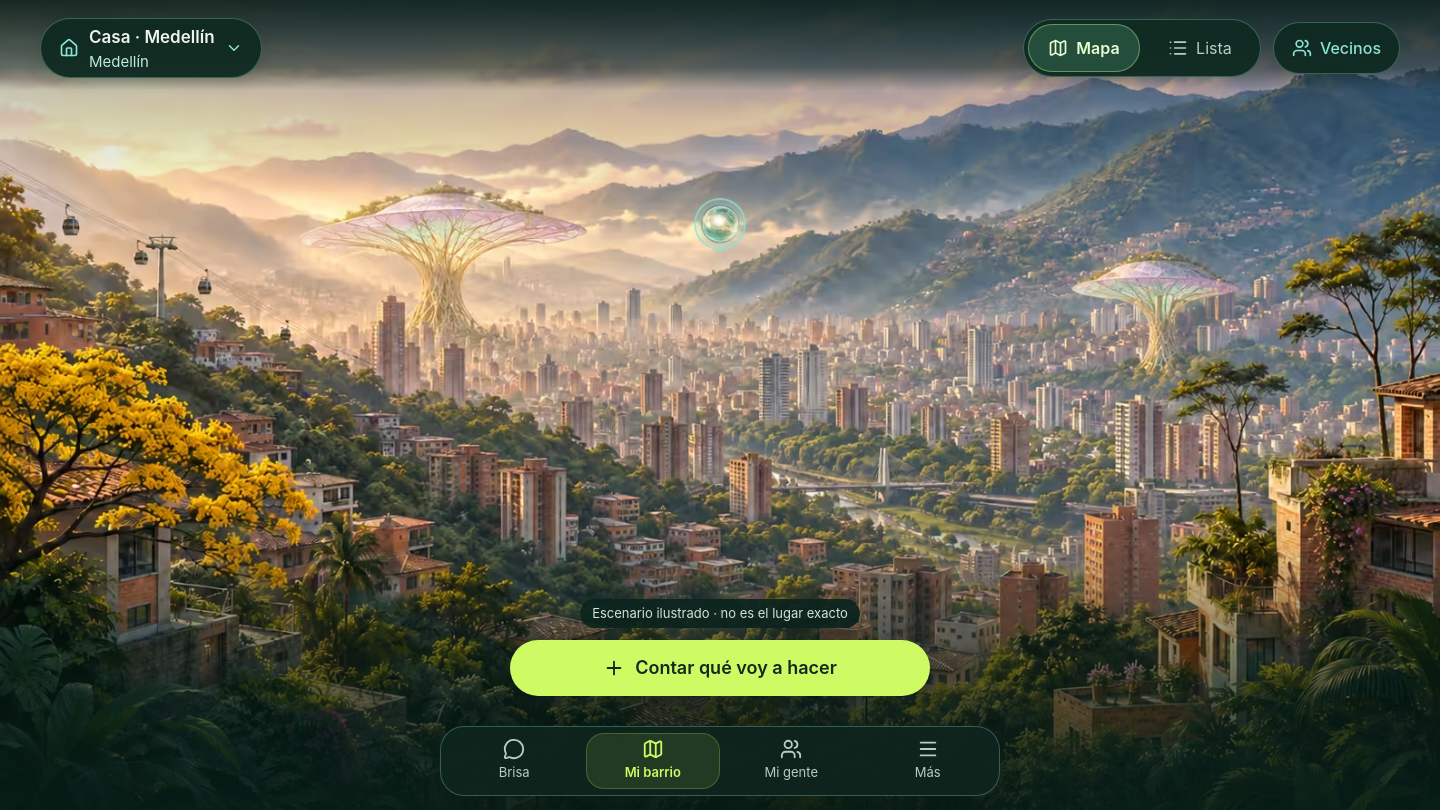
Test case: Mi barrio sobre el escenario ilustrado (19 de octubre) › tocar una luz abre su tarjeta en lugar del botón, y desde ahí uno se suma
Click the button named "Caminata por el parque. ".
click(720, 224)  # box [692,196,748,252]
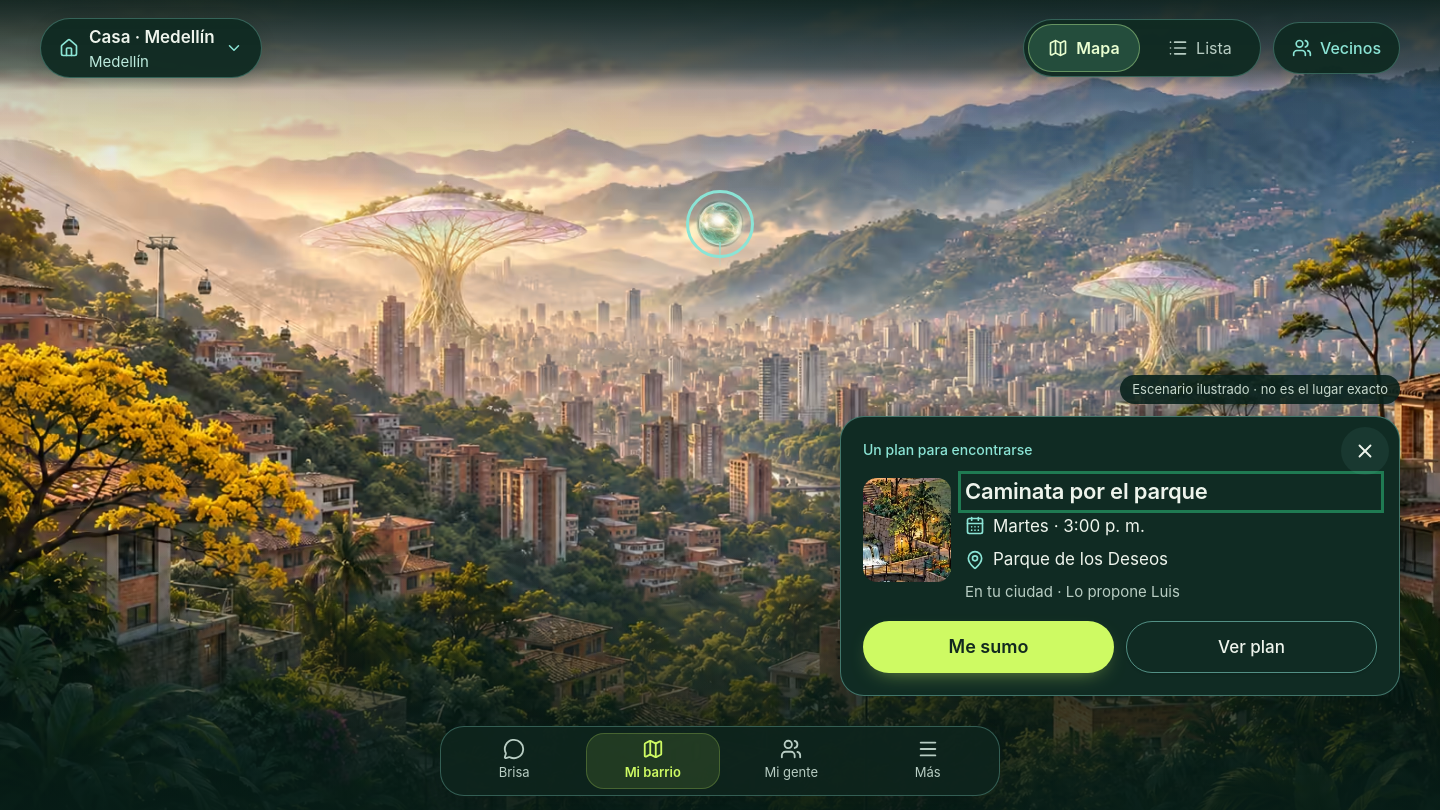
Expected: the heading "Caminata por el parque" is shown, [965,478,1208,504]
Expected: the button "Contar qué voy a hacer" is gone
Click the button "Me sumo".
click(988, 647)  # box [863,621,1114,673]
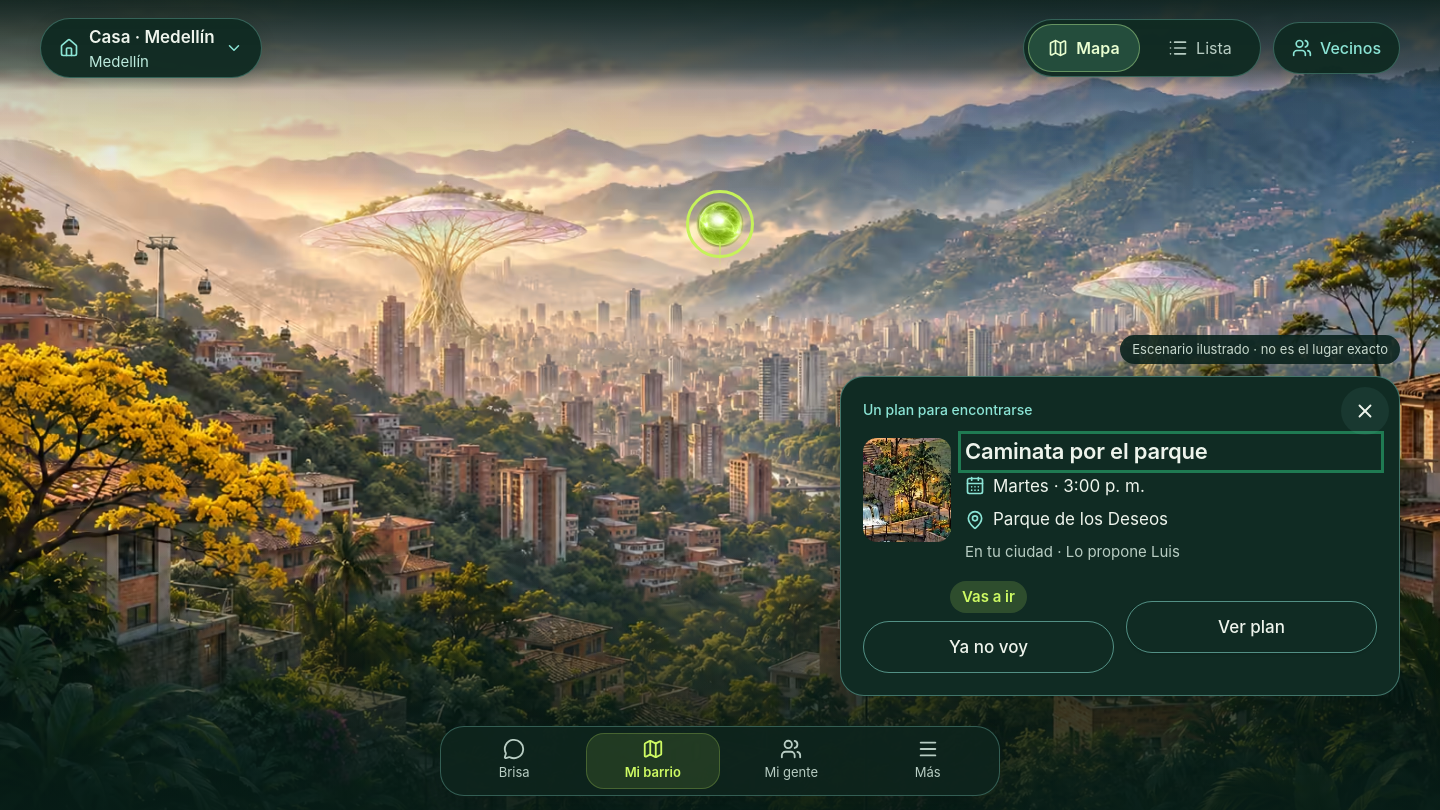
Expected: the text "Vas a ir" is shown, [950,581,1027,613]
Click the button named "Cerrar".
click(1365, 411)  # box [1341,387,1389,435]
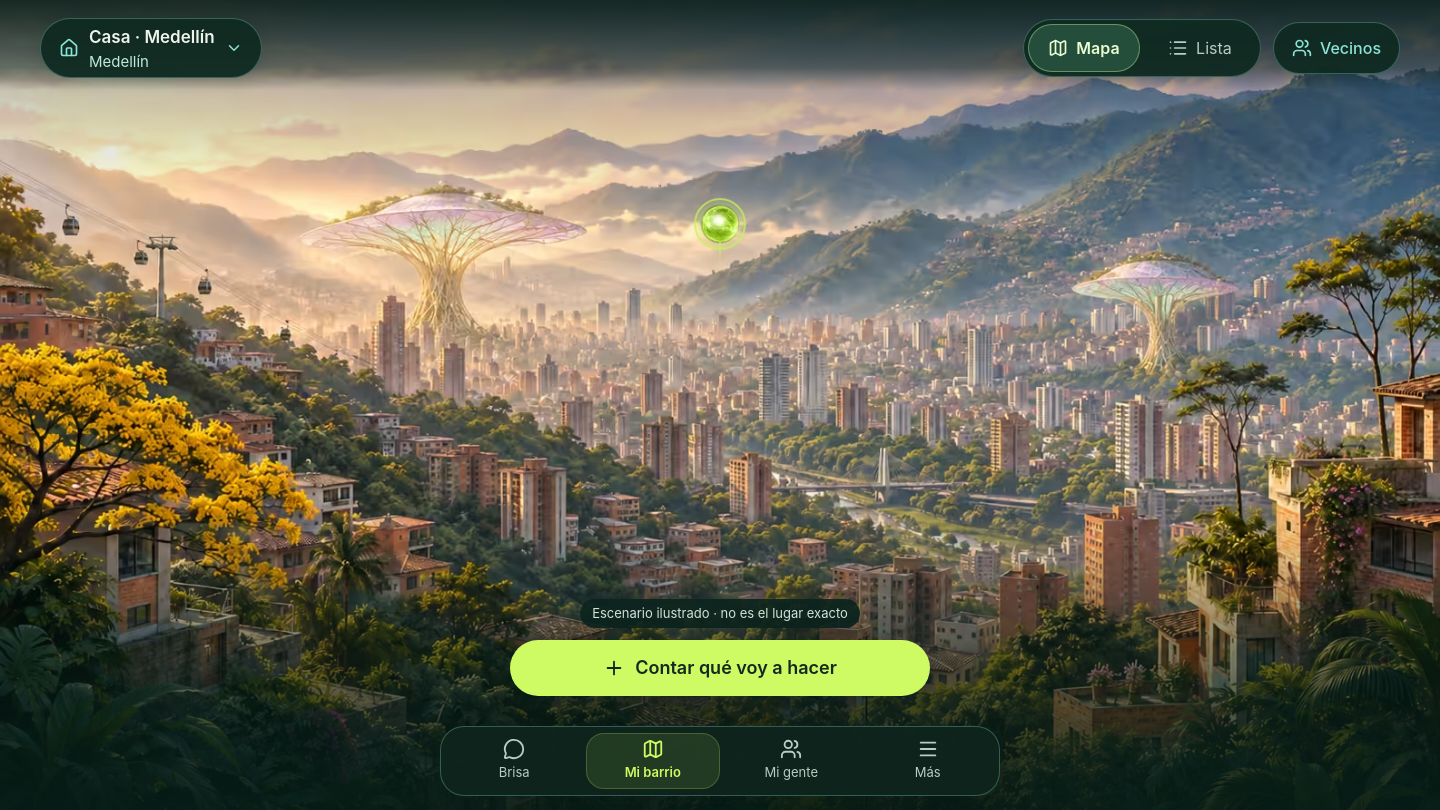
Expected: the button "Contar qué voy a hacer" is shown, [510,640,930,696]
